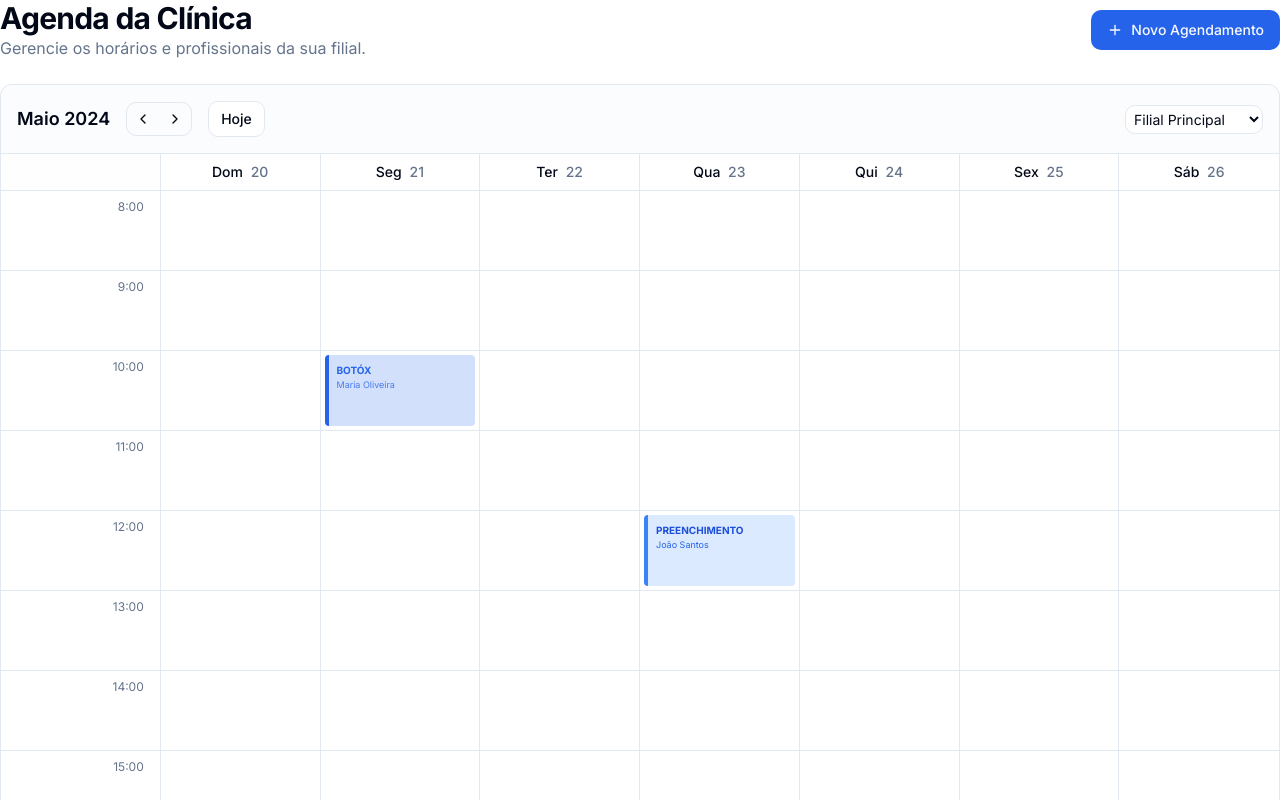
it: AgendaPage › opens the appointment form when clicking "Novo Agendamento"
Note: Click new appointment button
Click the button "Novo Agendamento" at (1186, 30), box [1091,10,1279,50]
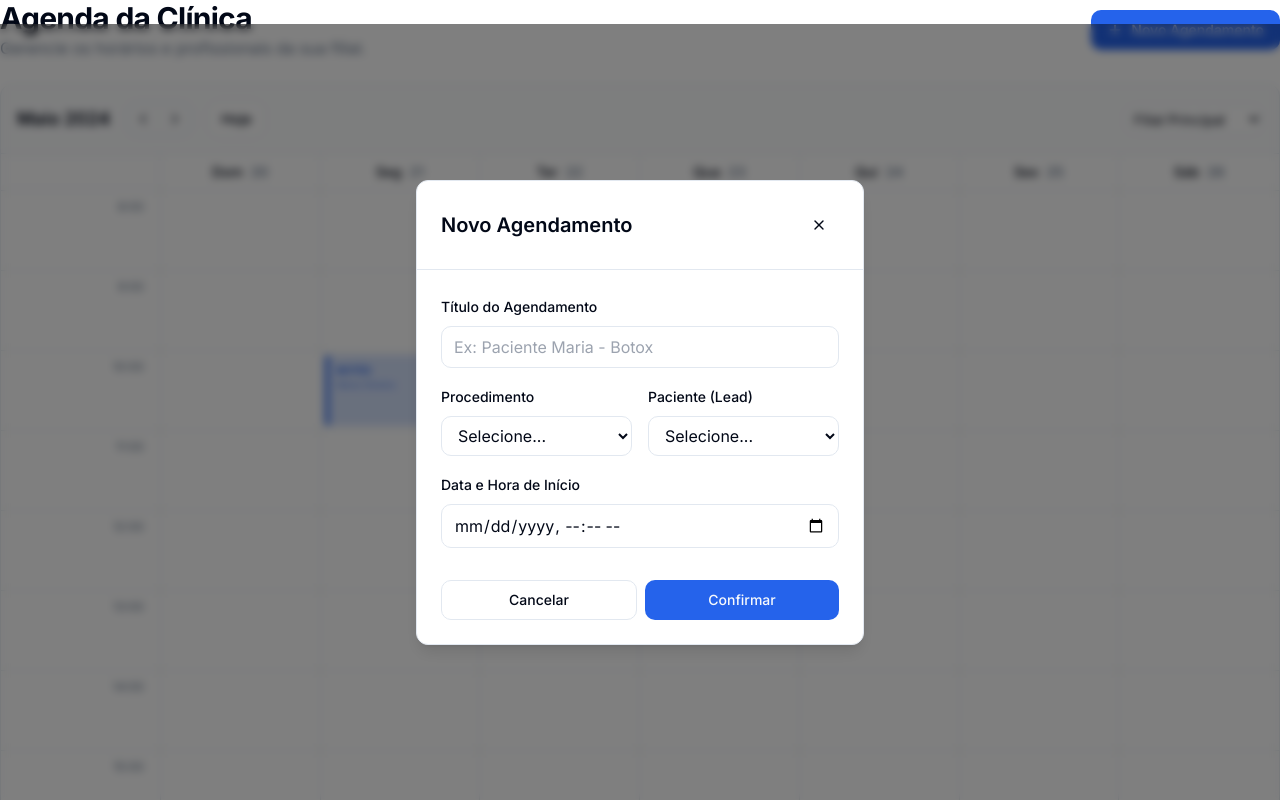
expect the heading "Novo Agendamento" is shown: met, box [441,210,632,238]
